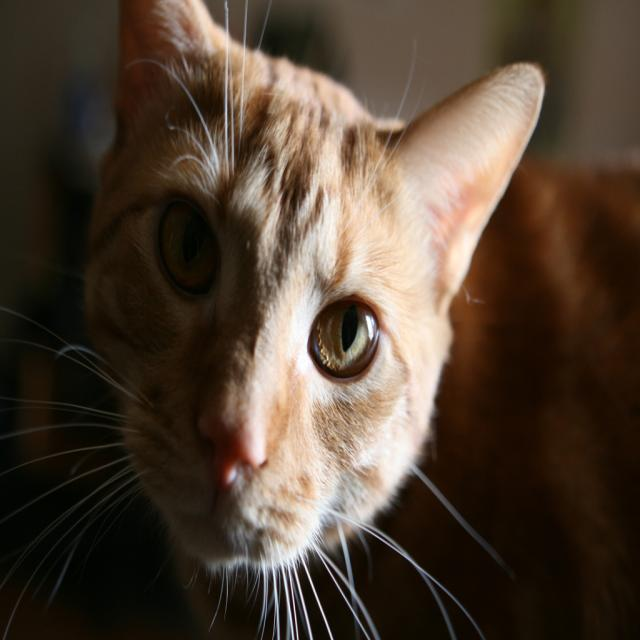Cat: (0, 0, 511, 638)
